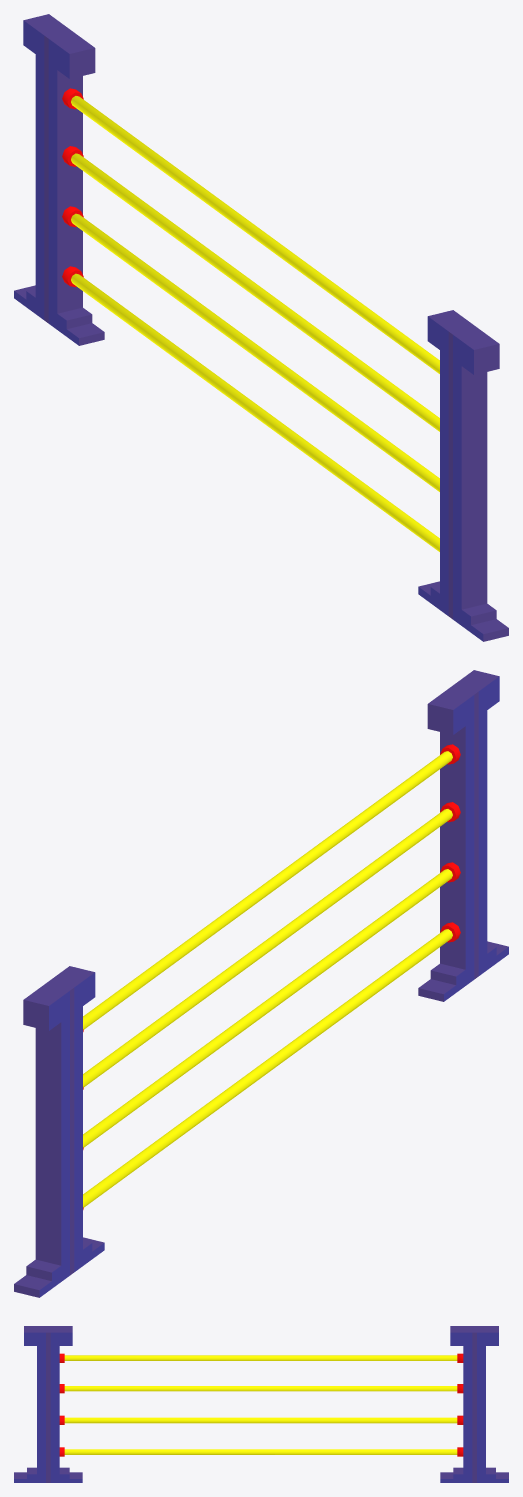
Rendered from Barrier.glb.
The picture shows the model from 3 angles, top to bottom: view 1: azimuth 30°, elevation 25°; view 2: azimuth 150°, elevation 25°; view 3: azimuth 270°, elevation 25°; orthographic projection. The views are drawn at different scales.
Visible parts, largest first — view 1: Scifi_WidthLaser_barrier_Scifi_Tunnel_Texture_0; view 2: Scifi_WidthLaser_barrier_Scifi_Tunnel_Texture_0; view 3: Scifi_WidthLaser_barrier_Scifi_Tunnel_Texture_0.
Part boxes in pixels (x1=…): Scifi_WidthLaser_barrier_Scifi_Tunnel_Texture_0: x1=14, y1=14, x2=508, y2=641; Scifi_WidthLaser_barrier_Scifi_Tunnel_Texture_0: x1=14, y1=670, x2=508, y2=1297; Scifi_WidthLaser_barrier_Scifi_Tunnel_Texture_0: x1=14, y1=1326, x2=508, y2=1482.
Size of what is drawn, in the model's own units: 0.1377 by 1.47 by 4.39.
1 material, 1 textured.
